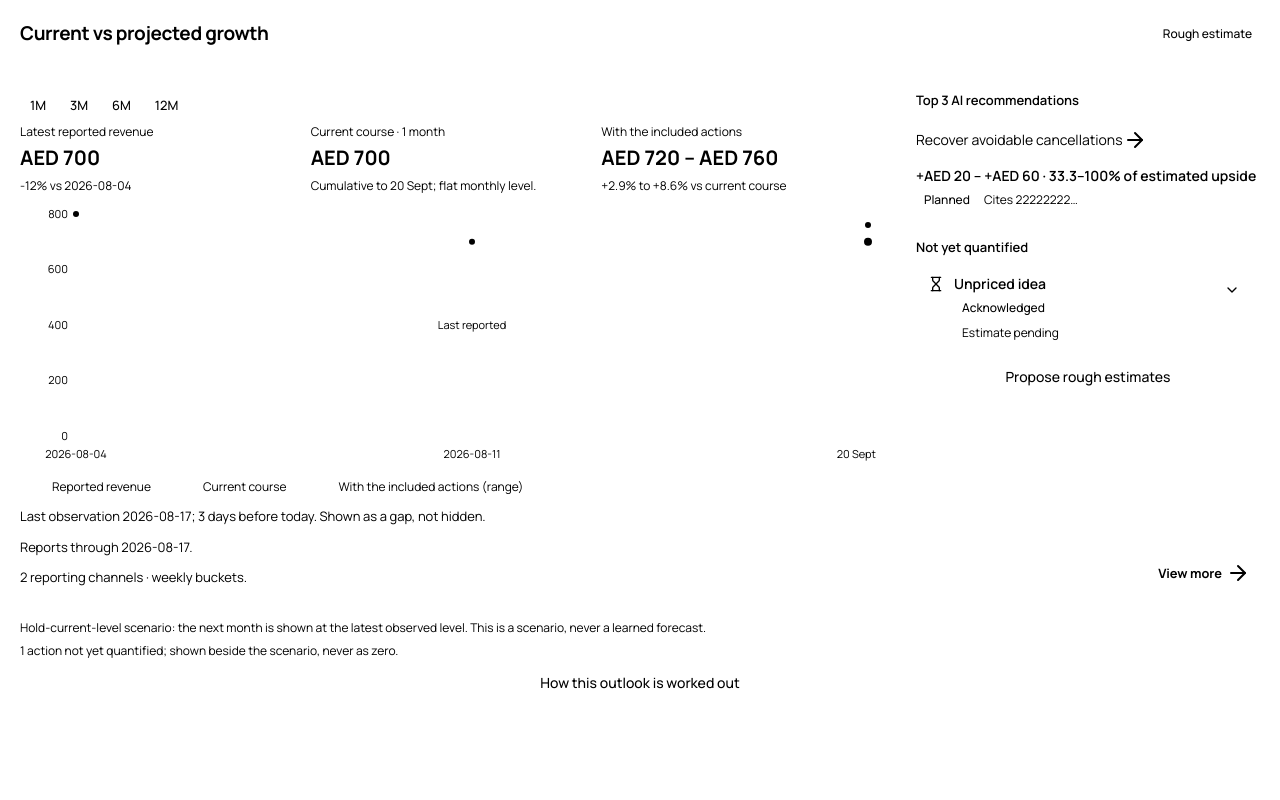
Scenario: HomeRevenue › switches horizons and keeps the pulse tip on the current course
The width and height of the screenshot is (1280, 800).
Expected: the text "Current course · 1 month" is shown, [311,123,445,140]
Click the button "3M".
click(79, 105)  # box [60,91,98,119]
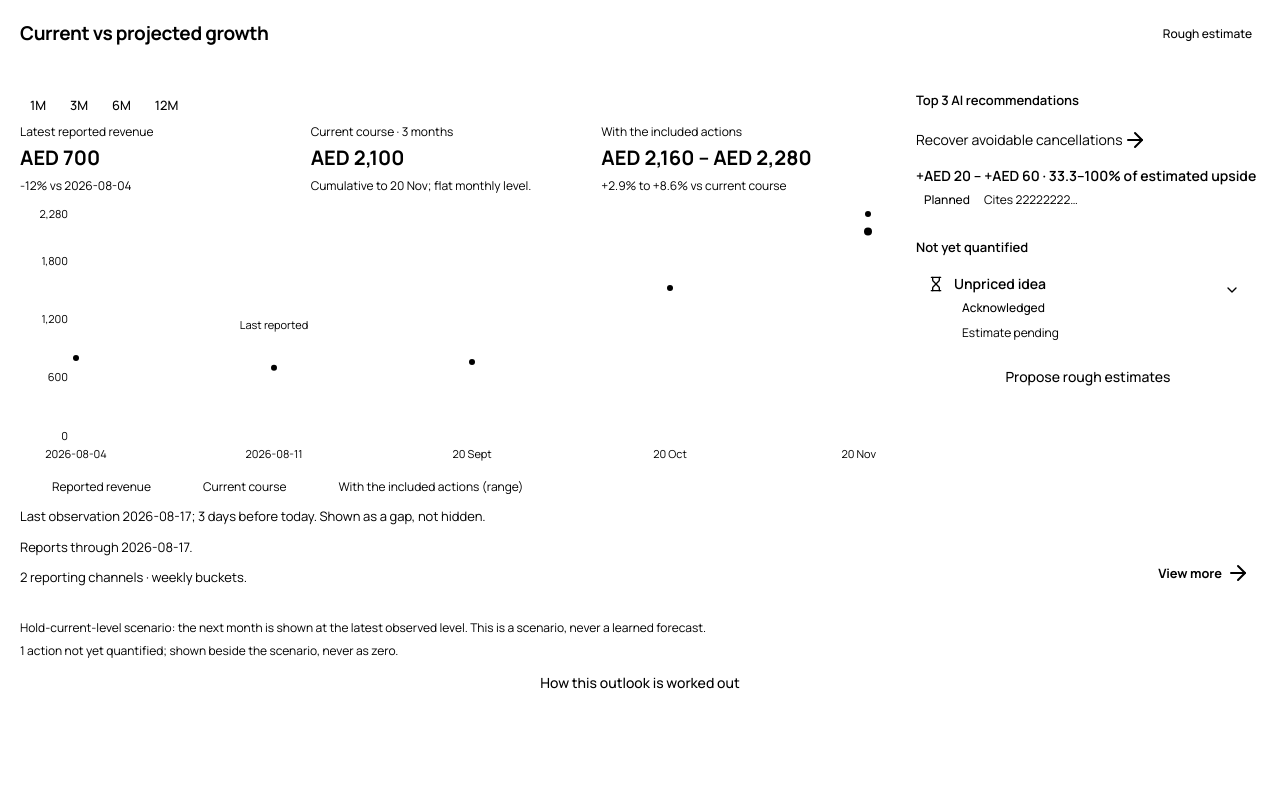
Result: the text "Current course · 3 months" is shown at [311,123,453,140]
Result: the text "Cumulative to 20 Nov; flat monthly level." is shown at [311,177,531,194]
